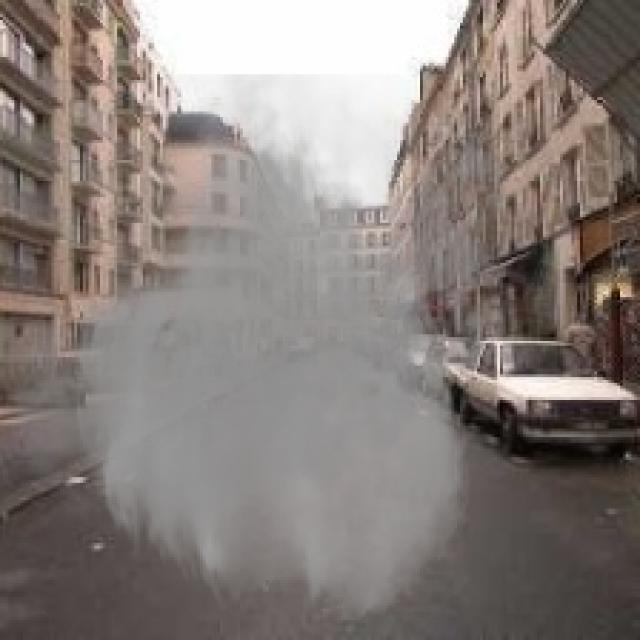Smoke: (0, 74, 526, 626)
